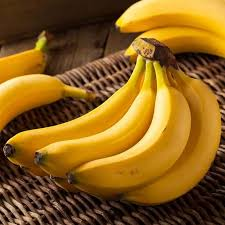banana: (5, 51, 224, 207), (1, 26, 93, 127), (110, 3, 225, 58)
